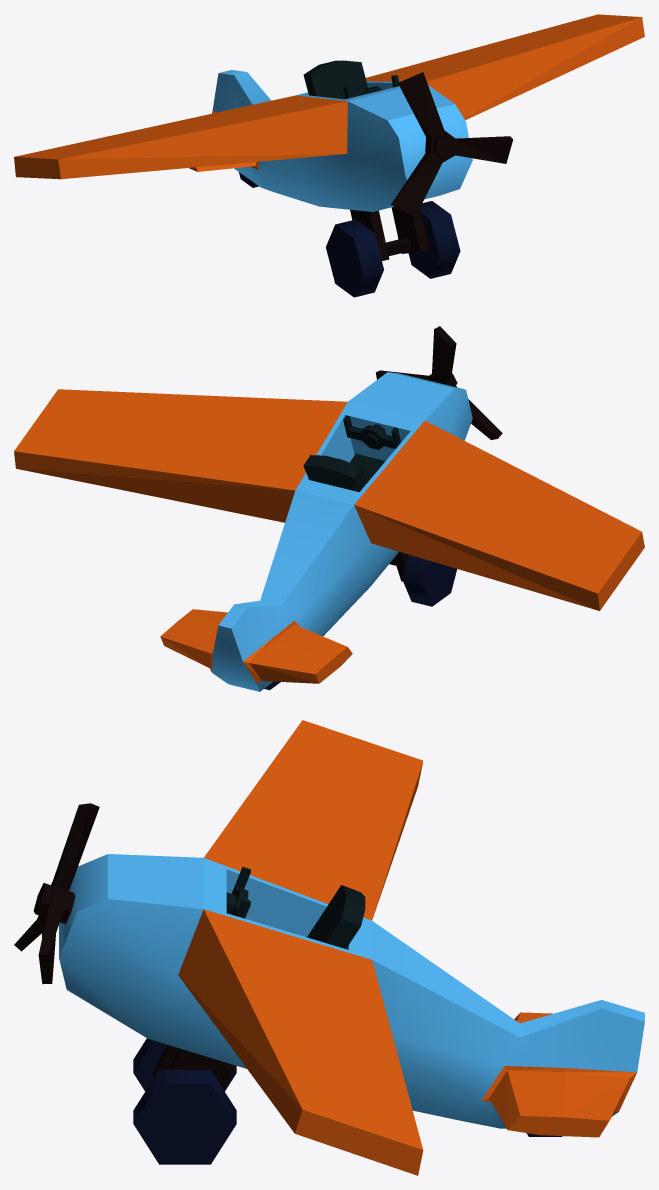
Rendered from Bedroom_ToyPlane.FBX.
The picture shows the model from 3 angles, top to bottom: view 1: azimuth 30°, elevation 25°; view 2: azimuth 150°, elevation 25°; view 3: azimuth 270°, elevation 25°; orthographic projection. The views are drawn at different scales.
Visible parts, largest first — view 1: Airplane Body; view 2: Airplane Body; view 3: Airplane Body.
Boxes of the visible parts, left/top/right/bottom form: Airplane Body: left=14, top=14, right=644, bottom=297; Airplane Body: left=14, top=326, right=644, bottom=691; Airplane Body: left=14, top=720, right=644, bottom=1175.
Bounding box in the file's own units: 24.25 × 9.35 × 16.6.
